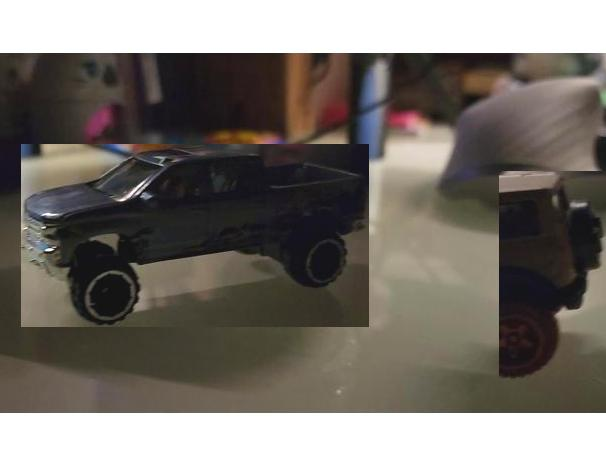toy-car: (20, 145, 368, 328), (499, 171, 606, 379)
